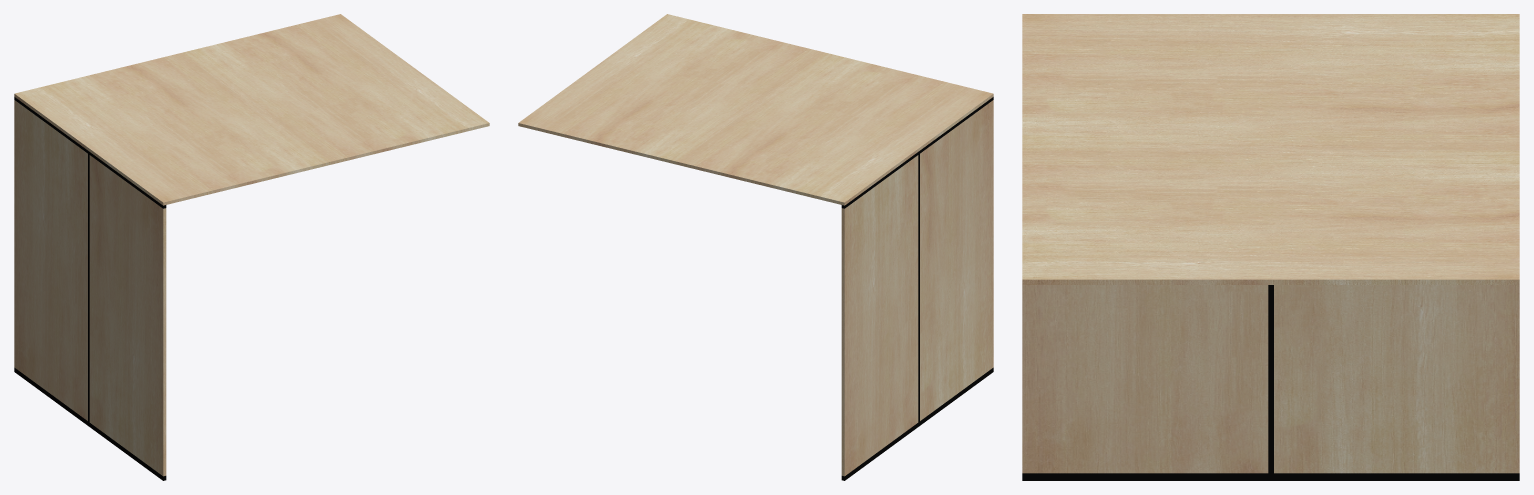
Rendered from rear-top-plywood.glb.
3 renders of one model, left to right at view 1: azimuth 30°, elevation 25°; view 2: azimuth 150°, elevation 25°; view 3: azimuth 270°, elevation 25°, orthographic. The views are drawn at different scales.
Parts seen in each view (by area): view 1: 10FT_Blank_Plywood_reartop, Obj_10FT_Blank_Plywood_reartop_1, Obj_10FT_Blank_Plywood_reartop_3, Obj_10FT_Blank_Plywood_reartop, Obj_10FT_Blank_Plywood_reartop_2; view 2: 10FT_Blank_Plywood_reartop, Obj_10FT_Blank_Plywood_reartop_1, Obj_10FT_Blank_Plywood_reartop, Obj_10FT_Blank_Plywood_reartop_3, Obj_10FT_Blank_Plywood_reartop_2; view 3: 10FT_Blank_Plywood_reartop, Obj_10FT_Blank_Plywood_reartop_1, Obj_10FT_Blank_Plywood_reartop_3, Obj_10FT_Blank_Plywood_reartop, Obj_10FT_Blank_Plywood_reartop_2.
Boxes of the visible parts, x1=… form: 10FT_Blank_Plywood_reartop: x1=14, y1=53, x2=330, y2=205; Obj_10FT_Blank_Plywood_reartop_1: x1=182, y1=14, x2=489, y2=164; Obj_10FT_Blank_Plywood_reartop_3: x1=89, y1=155, x2=166, y2=476; Obj_10FT_Blank_Plywood_reartop: x1=14, y1=100, x2=87, y2=420; Obj_10FT_Blank_Plywood_reartop_2: x1=14, y1=97, x2=166, y2=480; 10FT_Blank_Plywood_reartop: x1=677, y1=53, x2=993, y2=205; Obj_10FT_Blank_Plywood_reartop_1: x1=518, y1=14, x2=825, y2=164; Obj_10FT_Blank_Plywood_reartop: x1=841, y1=155, x2=918, y2=476; Obj_10FT_Blank_Plywood_reartop_3: x1=920, y1=100, x2=993, y2=420; Obj_10FT_Blank_Plywood_reartop_2: x1=841, y1=97, x2=993, y2=480; 10FT_Blank_Plywood_reartop: x1=1022, y1=14, x2=1519, y2=150; Obj_10FT_Blank_Plywood_reartop_1: x1=1022, y1=150, x2=1519, y2=284; Obj_10FT_Blank_Plywood_reartop_3: x1=1022, y1=285, x2=1268, y2=473; Obj_10FT_Blank_Plywood_reartop: x1=1274, y1=285, x2=1519, y2=473; Obj_10FT_Blank_Plywood_reartop_2: x1=1022, y1=285, x2=1519, y2=480.
Size of the model in its own units: 2.81 by 2.29 by 2.22.
Materials: 2 (1 with a texture image).
